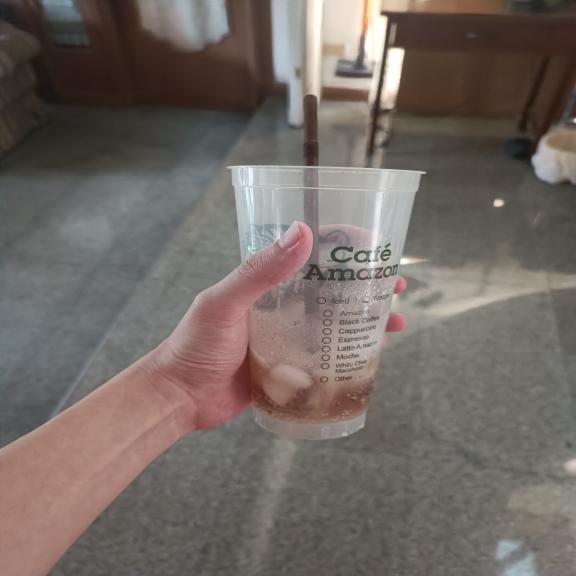Plastik: (229, 94, 425, 439)
